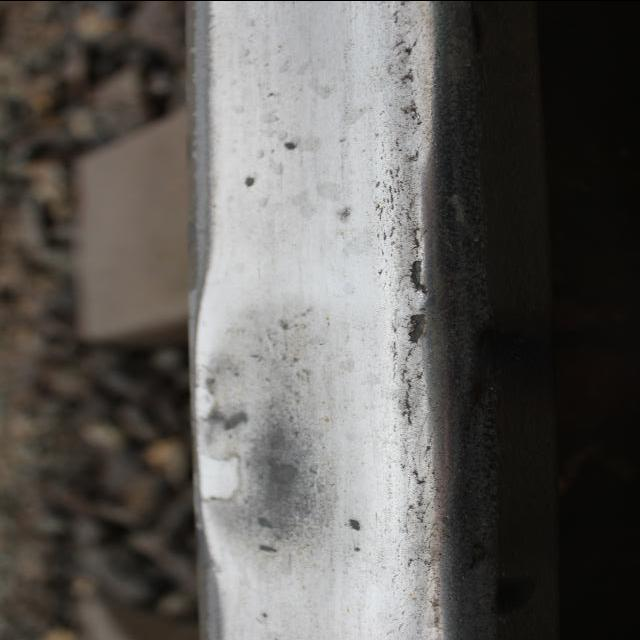broken_rail_medium: (393, 255, 431, 420), (404, 186, 428, 248), (399, 98, 429, 131), (401, 36, 427, 58), (404, 554, 438, 568), (234, 172, 258, 188), (397, 66, 418, 84), (406, 147, 424, 163), (276, 141, 300, 151), (347, 516, 359, 530)
head_checks_high: (194, 259, 445, 590)
